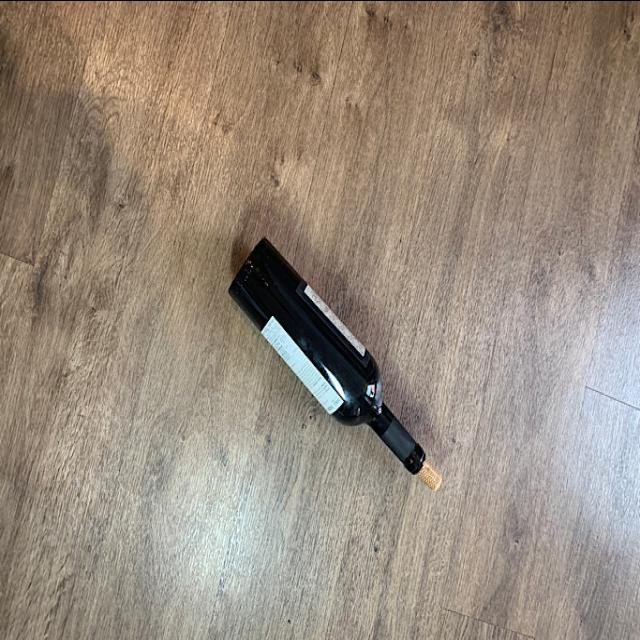Glass Bottle: (225, 232, 430, 474)
